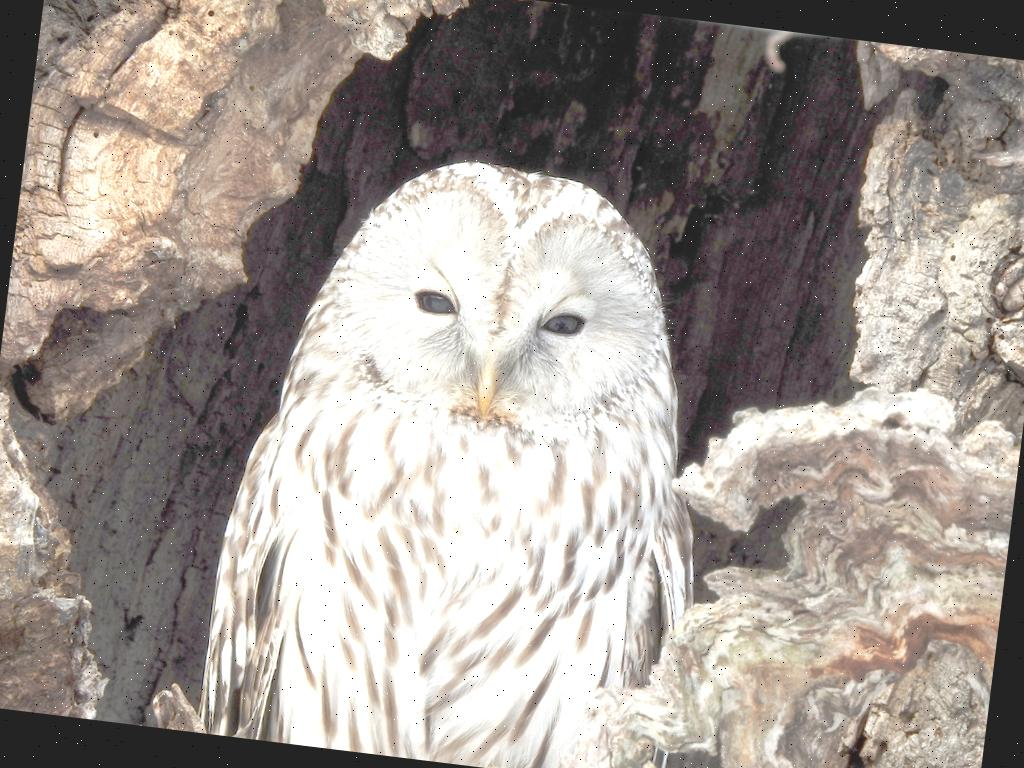Owl: (187, 134, 756, 768)
